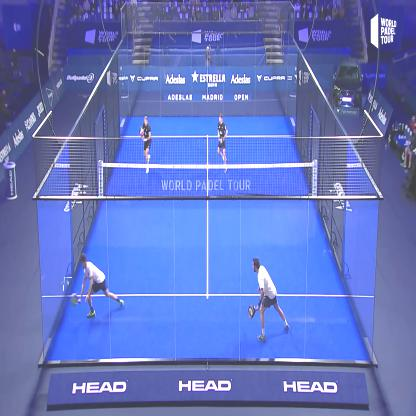ball: (64, 277, 73, 292)
